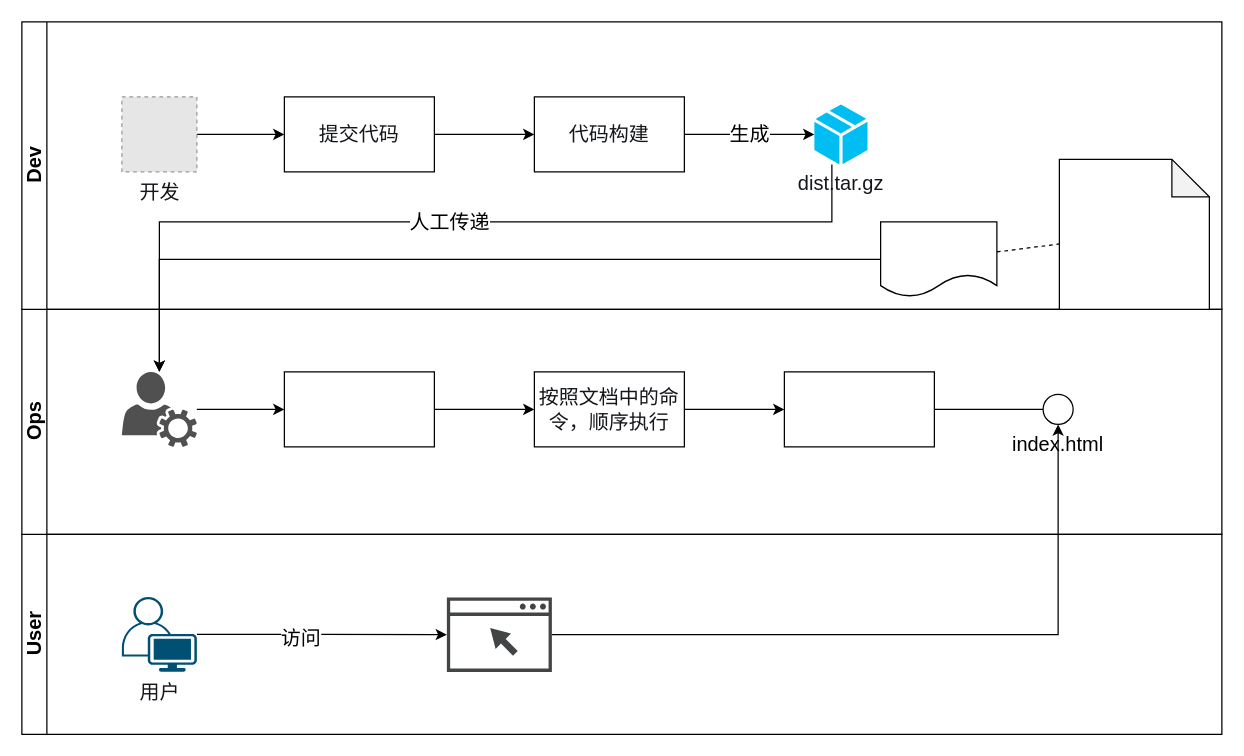
Some shapes in this 1244 by 756 pixel diagram are drawn without their labels. Grey dashed boxes stand in for pictures. Each missing label, with the centre of its shape:
具体的升级命令、执行结构、修改配置、包 hash 值 等等: [1133,233]
升级文档: [938,259]
替换前端代码: [858,409]
运维人员: [158,408]
远程虚拟机: [358,409]
